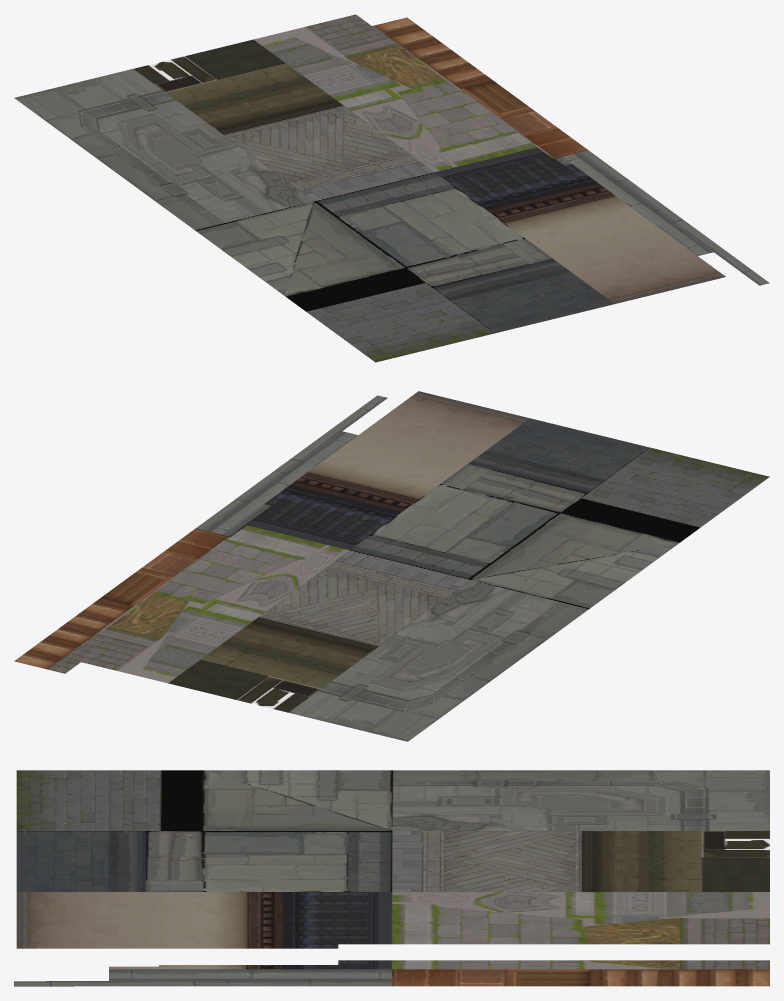
The model's file is City_shui_di.fbx.
The picture shows the model from 3 angles, top to bottom: view 1: azimuth 30°, elevation 25°; view 2: azimuth 150°, elevation 25°; view 3: azimuth 270°, elevation 25°; orthographic projection. The views are drawn at different scales.
Parts seen in each view (by area): view 1: DSWC:DSWC:polySurface16; view 2: DSWC:DSWC:polySurface16; view 3: DSWC:DSWC:polySurface16.
Boxes of the visible parts, x1=… form: DSWC:DSWC:polySurface16: x1=14, y1=14, x2=769, y2=362; DSWC:DSWC:polySurface16: x1=14, y1=391, x2=769, y2=741; DSWC:DSWC:polySurface16: x1=14, y1=770, x2=769, y2=986.
Size of the model in its own units: 174 by 6.58 by 278.
1 material, 1 textured.
